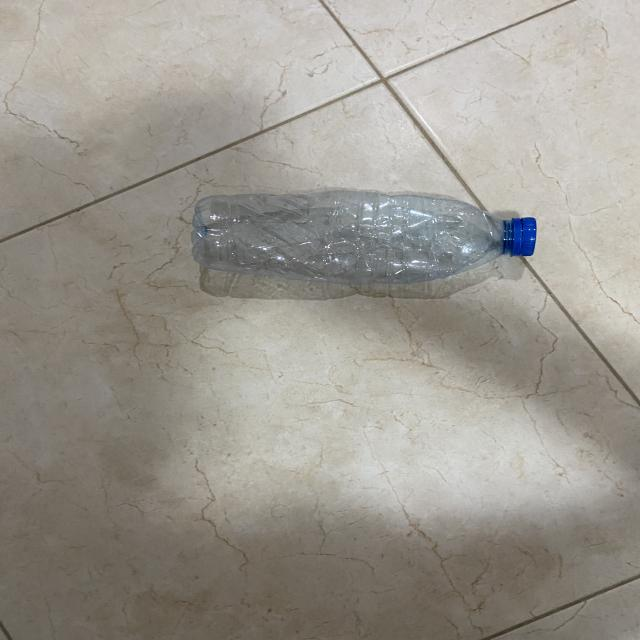plastic bottle: (181, 186, 554, 288)
